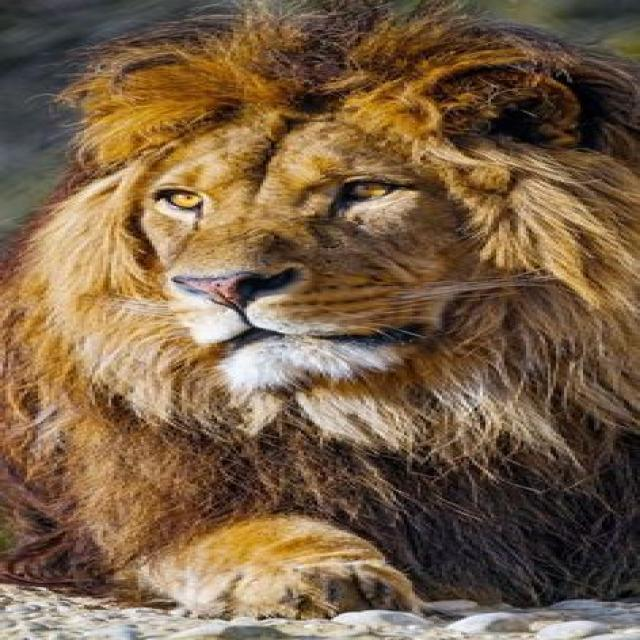lions: (0, 0, 640, 628)
